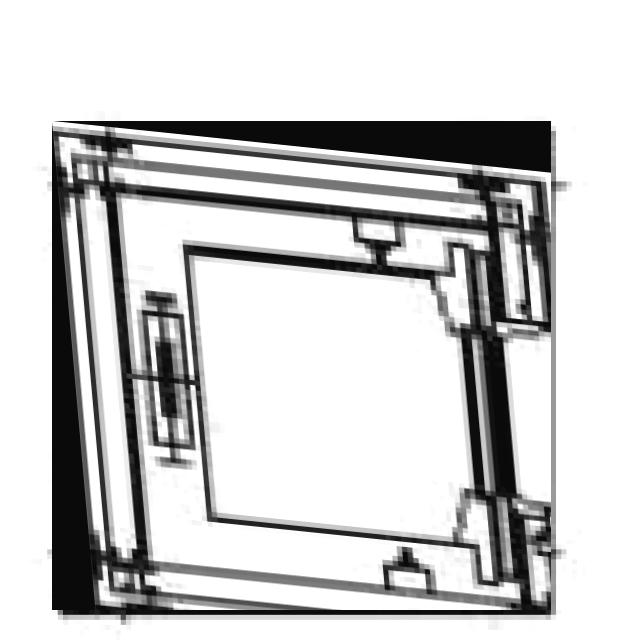lift: (52, 121, 551, 610)
